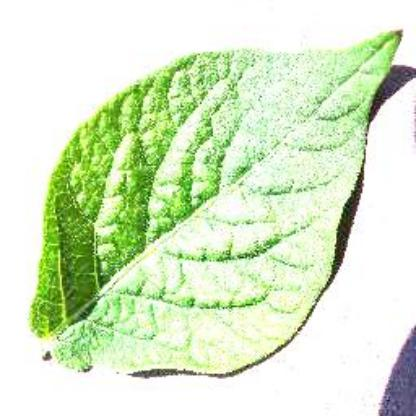Healthy-plant: (27, 8, 405, 394)
